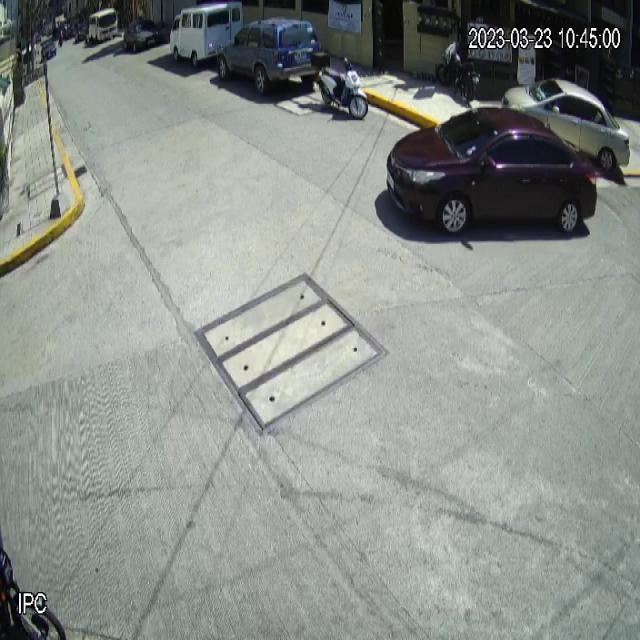Car: (386, 106, 598, 238), (216, 17, 320, 96)
Motorcycle: (311, 50, 369, 121)
Van: (169, 0, 243, 68)
